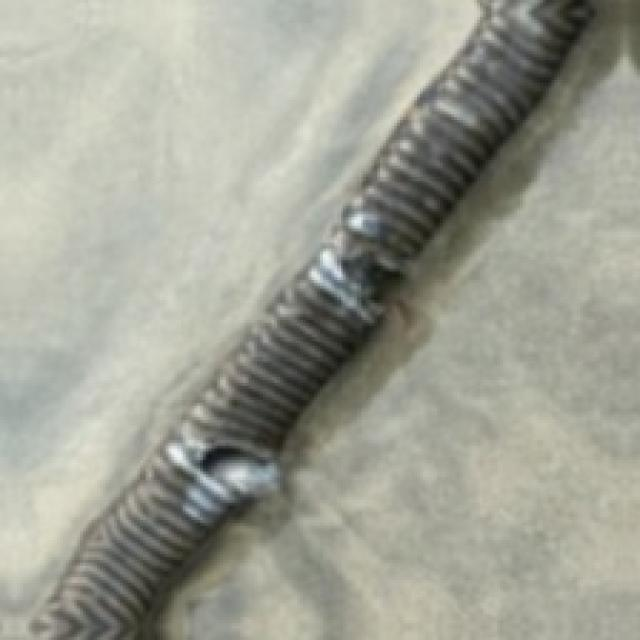king cobra: (157, 0, 637, 637), (0, 0, 477, 637)
